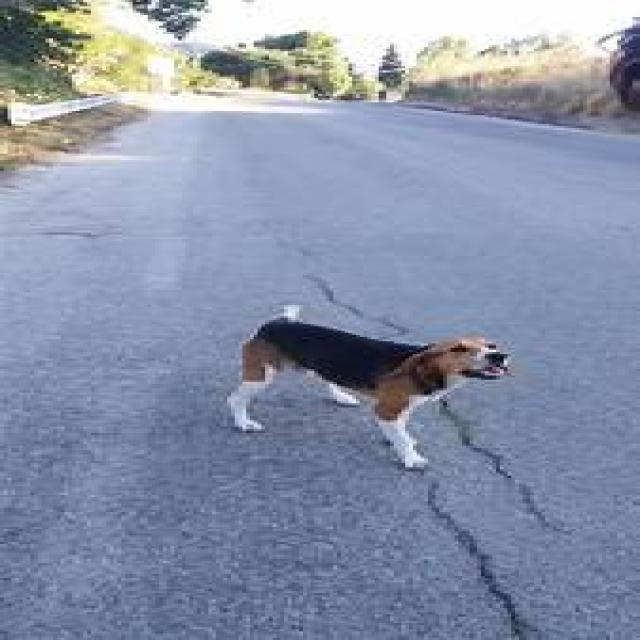animal: (197, 279, 536, 463)
